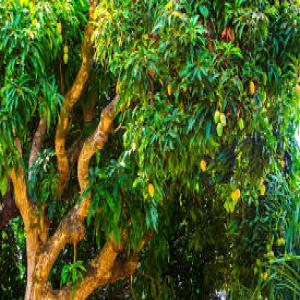Tree: (1, 0, 297, 299)
